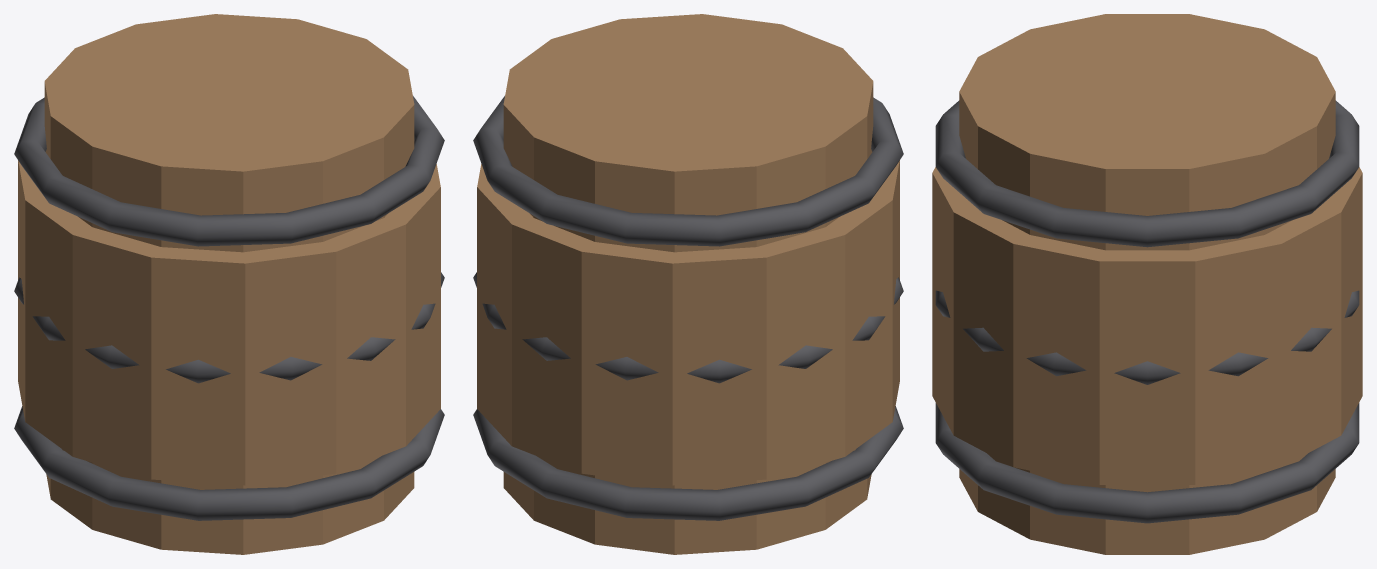
The model's file is Barrel.fbx.
3 views of the same model, side by side, from view 1: azimuth 30°, elevation 25°; view 2: azimuth 150°, elevation 25°; view 3: azimuth 270°, elevation 25° (orthographic).
Parts seen in each view (by area): view 1: Barrel; view 2: Barrel; view 3: Barrel.
Boxes of the visible parts, x1,y1,x2,y2 form: Barrel: (14,14,444,554); Barrel: (473,14,903,554); Barrel: (932,14,1362,554).
Size of the model in its own units: 97 by 95 by 96.
